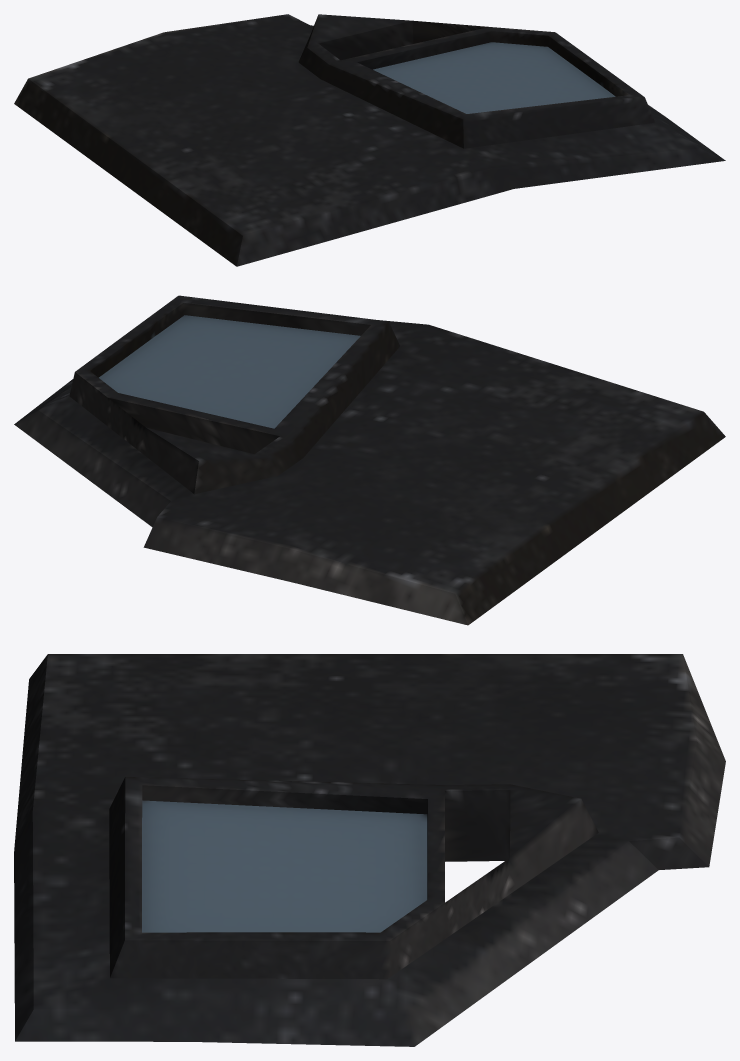
File: FJ75DoorArmor_WorldItem.fbx
3 views of the same model, one above another, from view 1: azimuth 30°, elevation 25°; view 2: azimuth 150°, elevation 25°; view 3: azimuth 270°, elevation 25° (orthographic). The views are drawn at different scales.
Visible parts, largest first — view 1: ArmorDoorLeft_obj; view 2: ArmorDoorLeft_obj; view 3: ArmorDoorLeft_obj.
Boxes of the visible parts, x1=… form: ArmorDoorLeft_obj: x1=14, y1=14, x2=725, y2=266; ArmorDoorLeft_obj: x1=14, y1=295, x2=725, y2=625; ArmorDoorLeft_obj: x1=14, y1=654, x2=725, y2=1046.
Size of the model in its own units: 1.92 by 0.2751 by 1.66.
